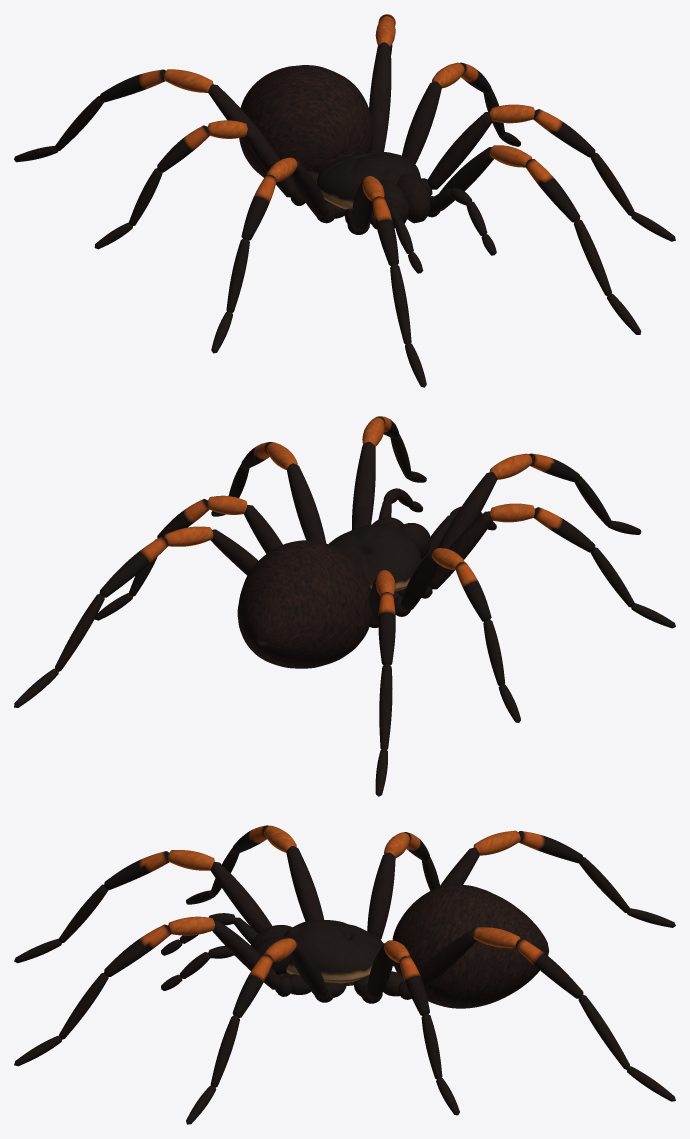
File: peau.glb
The picture shows the model from 3 angles, top to bottom: view 1: azimuth 30°, elevation 25°; view 2: azimuth 150°, elevation 25°; view 3: azimuth 270°, elevation 25°; orthographic projection.
Parts seen in each view (by area): view 1: peau_abdomen, peau_carapace, peau_femur_G4, peau_femur_G2, peau_femur_G3, peau_tibia_G1, peau_palpe_G, peau_chelicere_G, peau_tibia_D1, peau_tibia_G2, peau_tibia_D2, peau_femur_D3 (+18 smaller); view 2: peau_abdomen, peau_carapace, peau_femur_G1, peau_femur_G2, peau_femur_D1, peau_tibia_G4, peau_femur_D2, peau_tibia_D4, peau_femur_D3, peau_tibia_D2, peau_metatarse_D4, peau_metatarse_G4 (+14 smaller); view 3: peau_abdomen, peau_carapace, peau_femur_D3, peau_femur_D1, peau_femur_D2, peau_femur_G1, peau_tibia_G4, peau_femur_G4, peau_tibia_G1, peau_tibia_G2, peau_tibia_D1, peau_femur_G2 (+23 smaller).
Boxes of the visible parts, left/top/right/bottom form: peau_abdomen: left=239, top=65, right=373, bottom=177; peau_carapace: left=316, top=152, right=420, bottom=213; peau_femur_G4: left=369, top=42, right=391, bottom=151; peau_femur_G2: left=427, top=111, right=492, bottom=189; peau_femur_G3: left=402, top=81, right=441, bottom=164; peau_tibia_G1: left=525, top=159, right=580, bottom=222; peau_palpe_G: left=428, top=187, right=496, bottom=255; peau_chelicere_G: left=396, top=174, right=430, bottom=223; peau_tibia_D1: left=372, top=196, right=398, bottom=265; peau_tibia_G2: left=533, top=109, right=595, bottom=157; peau_tibia_D2: left=241, top=175, right=276, bottom=240; peau_femur_D3: left=244, top=127, right=296, bottom=197; peau_abdomen: left=237, top=540, right=372, bottom=668; peau_carapace: left=328, top=522, right=421, bottom=591; peau_femur_G1: left=352, top=441, right=375, bottom=529; peau_femur_G2: left=287, top=463, right=326, bottom=543; peau_femur_D1: left=438, top=472, right=497, bottom=548; peau_tibia_G4: left=99, top=537, right=168, bottom=597; peau_femur_D2: left=429, top=511, right=492, bottom=589; peau_tibia_D4: left=378, top=592, right=395, bottom=664; peau_femur_D3: left=400, top=550, right=438, bottom=610; peau_tibia_D2: left=534, top=507, right=595, bottom=552; peau_metatarse_D4: left=379, top=664, right=392, bottom=749; peau_metatarse_G4: left=55, top=594, right=104, bottom=671; peau_abdomen: left=392, top=884, right=548, bottom=1008; peau_carapace: left=284, top=920, right=383, bottom=983; peau_femur_D3: left=367, top=852, right=395, bottom=938; peau_femur_D1: left=210, top=861, right=271, bottom=933; peau_femur_D2: left=286, top=846, right=324, bottom=921; peau_femur_G1: left=212, top=920, right=281, bottom=989; peau_tibia_G4: left=515, top=939, right=583, bottom=998; peau_femur_G4: left=419, top=929, right=476, bottom=988; peau_tibia_G1: left=104, top=924, right=171, bottom=976; peau_tibia_G2: left=232, top=954, right=273, bottom=1017; peau_tibia_D1: left=104, top=851, right=169, bottom=889; peau_femur_G2: left=290, top=940, right=327, bottom=997.
Size of the model in its own units: 5.93 by 1.64 by 7.45.
